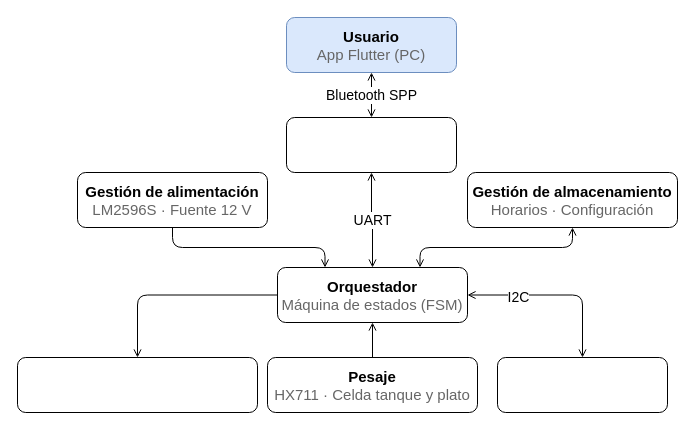
The diagram is 695 pixels wide and 430 high, and some of its shapes have lost their labels. The shapes that lost their labels are listed below. From the top down, each one's centre as x and y in pixels, then its label:
[371,144]: ESP32 Puente Bluetooth
[137,384]: Periféricos NEMA 17 · A4988 · Pulsador · LED
[582,384]: Gestión de horarios RTC · DS3231
